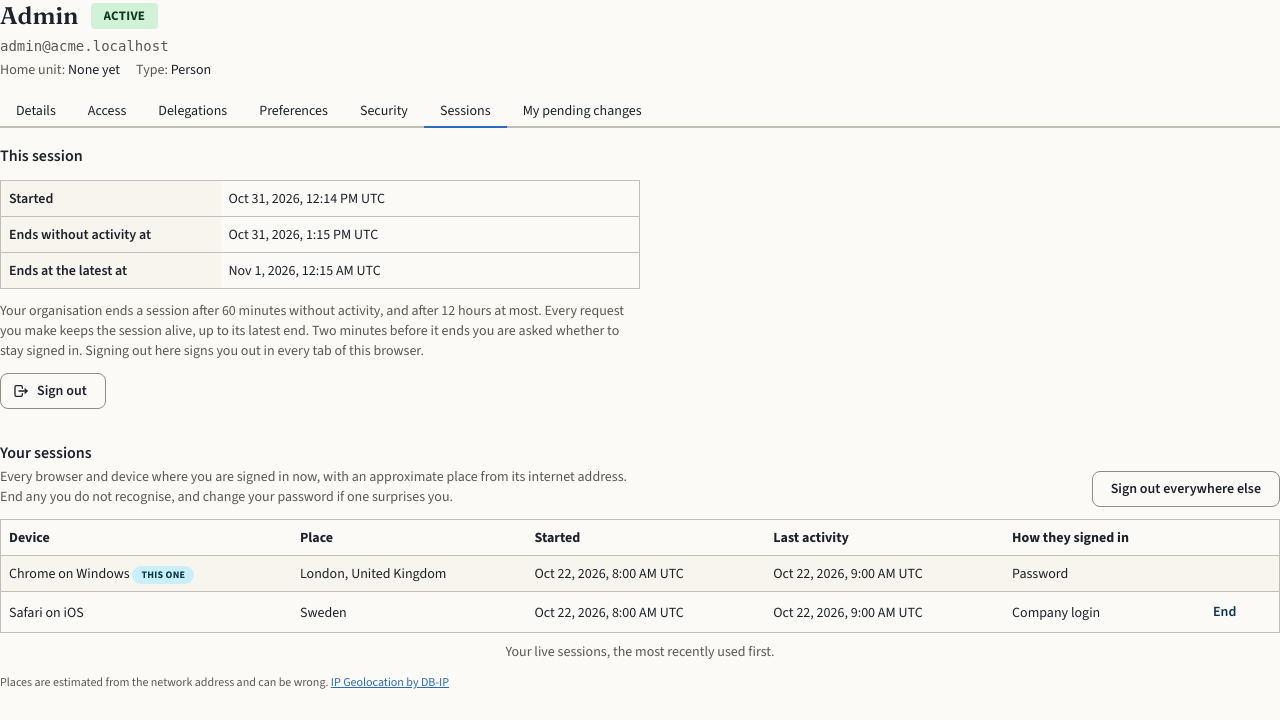
Test: My profile's Sessions tab › lists every session with its device, place and method, and ends another one after asking [TF-022 AC4, ADR-0049]
Expected: the row that starts with "Chrome on Windows" is shown, [9, 564, 130, 583]
Expected: the row that starts with "Chrome on Windows" shows "London, United Kingdom", [300, 564, 446, 583]
Click the button with aria-label "End the session in Safari on iOS, Sweden".
click(1225, 612)  # box [1204, 599, 1245, 625]
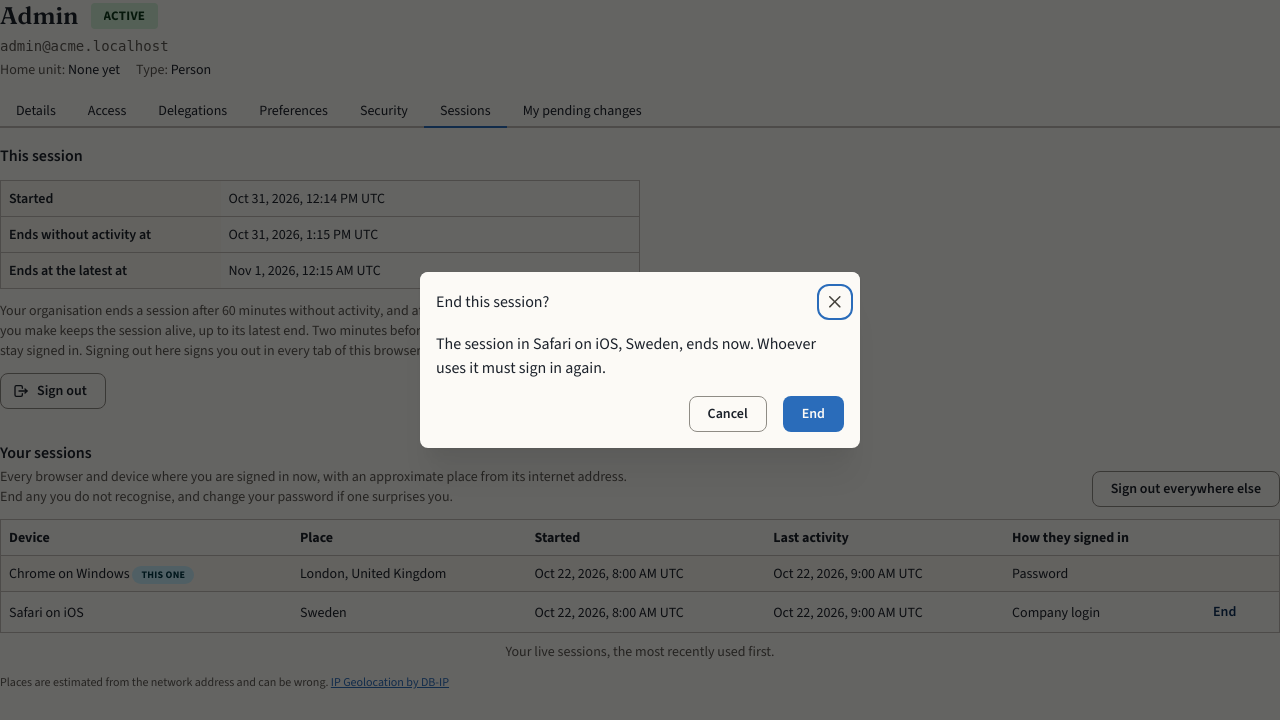
Click the button "End".
click(813, 414)  # box [783, 396, 844, 432]
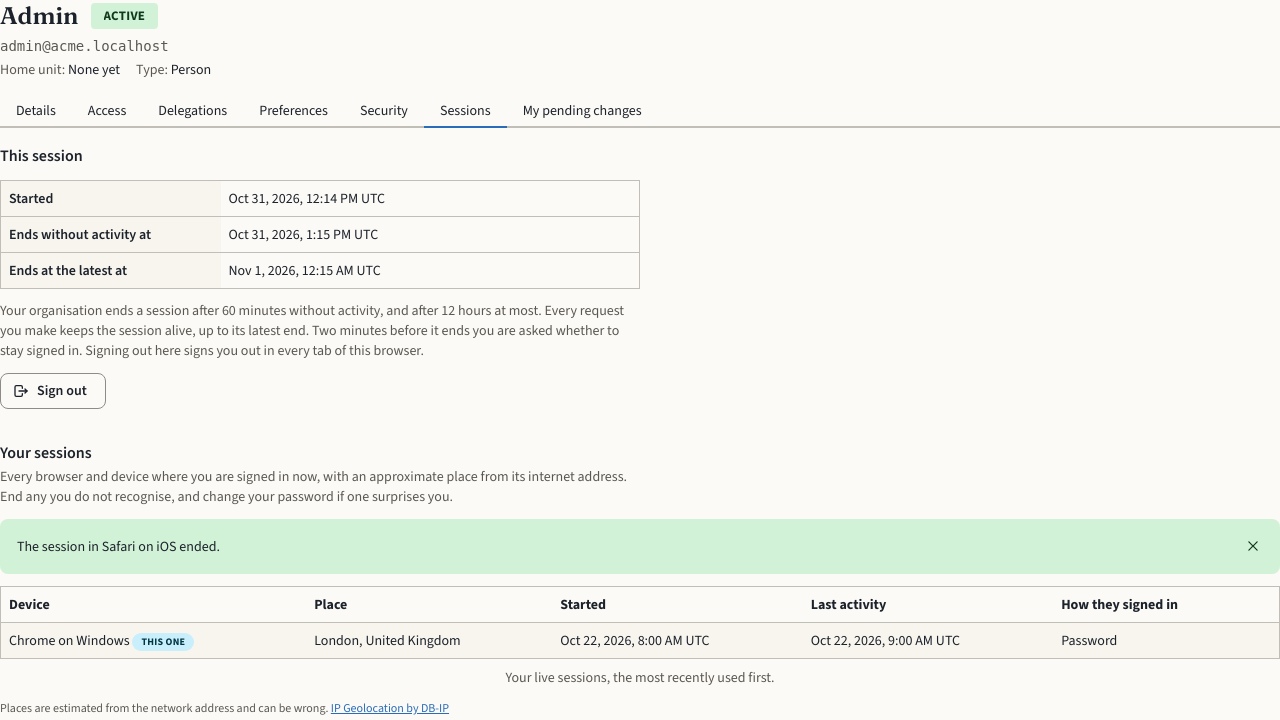
Now the message reads "The session in Safari on iOS ended.", box [17, 537, 220, 556]
